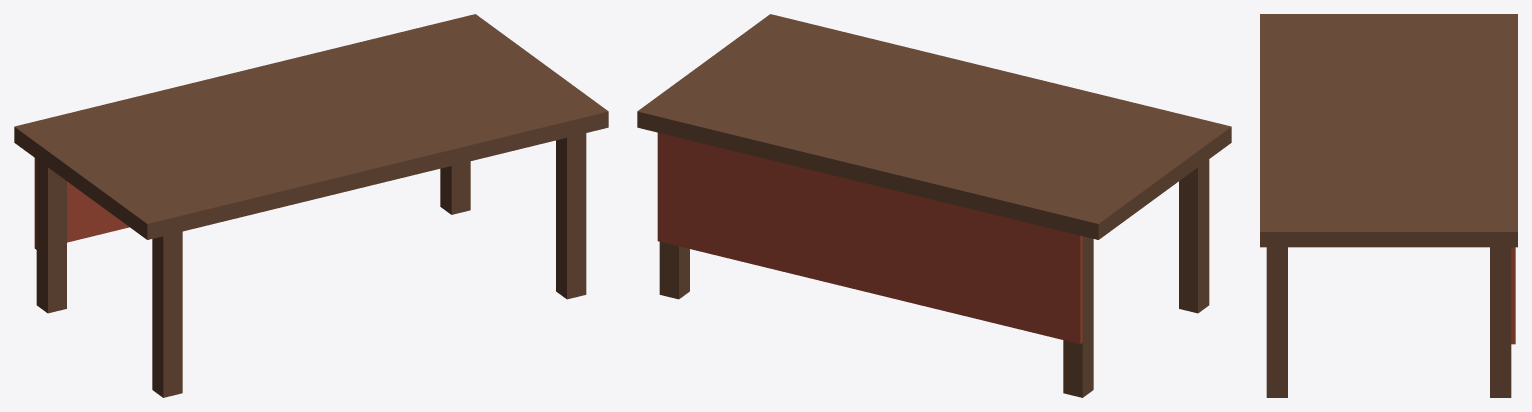
Rendered from prop_stall_6_table.glb.
The picture shows the model from 3 angles, left to right: view 1: azimuth 30°, elevation 25°; view 2: azimuth 150°, elevation 25°; view 3: azimuth 270°, elevation 25°; orthographic projection. The views are drawn at different scales.
Visible parts, largest first — view 1: PROP_Stall_6_Table; view 2: PROP_Stall_6_Table; view 3: PROP_Stall_6_Table.
Boxes of the visible parts, x1=… form: PROP_Stall_6_Table: x1=14, y1=14, x2=608, y2=397; PROP_Stall_6_Table: x1=637, y1=14, x2=1231, y2=397; PROP_Stall_6_Table: x1=1260, y1=14, x2=1517, y2=397.
Bounding box in the file's own units: 2.4 × 0.9 × 1.2.
